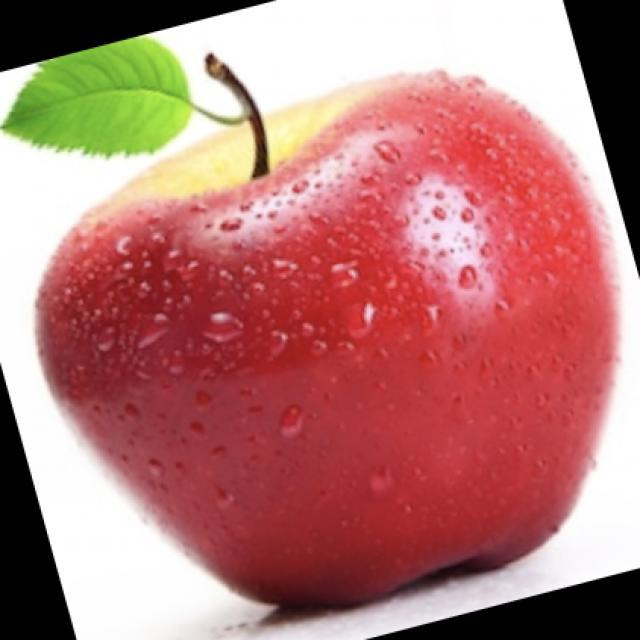Fresh Apple: (35, 63, 600, 607)
